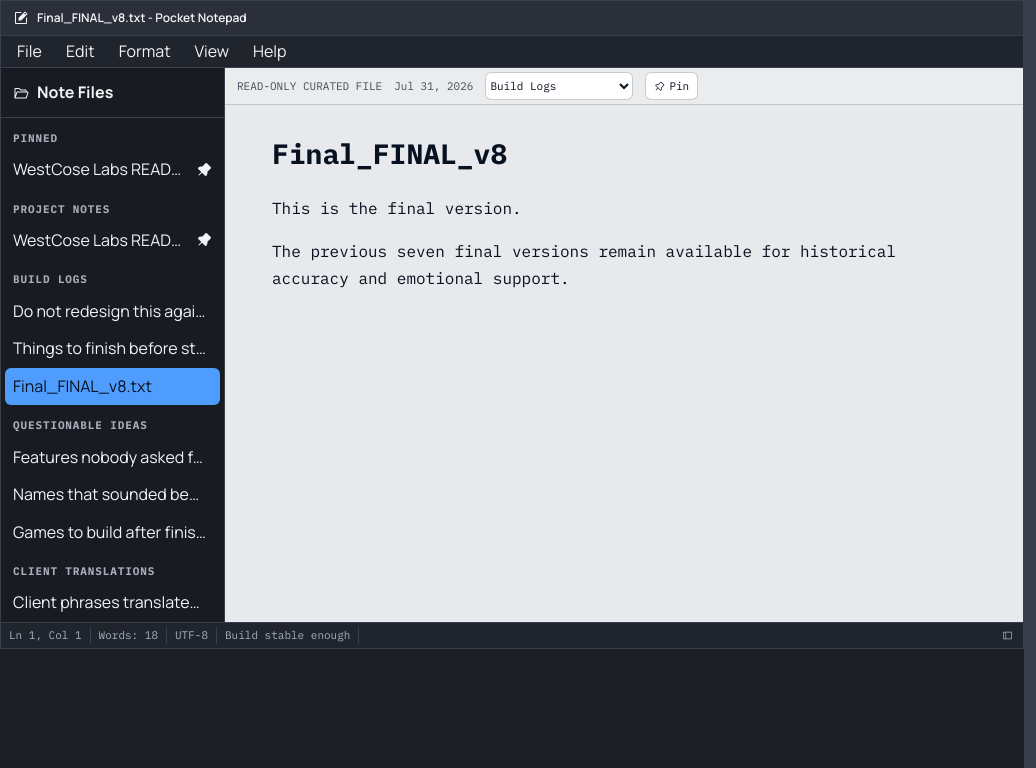
Test case: Notes applications › renders desktop PC menus and refuses to rename Final_FINAL_v8
Expected: the navigation bar named "Pocket Notepad menu" is shown, [1,36,1023,68]
Click the button "Edit".
click(80, 52)  # box [54,36,107,67]
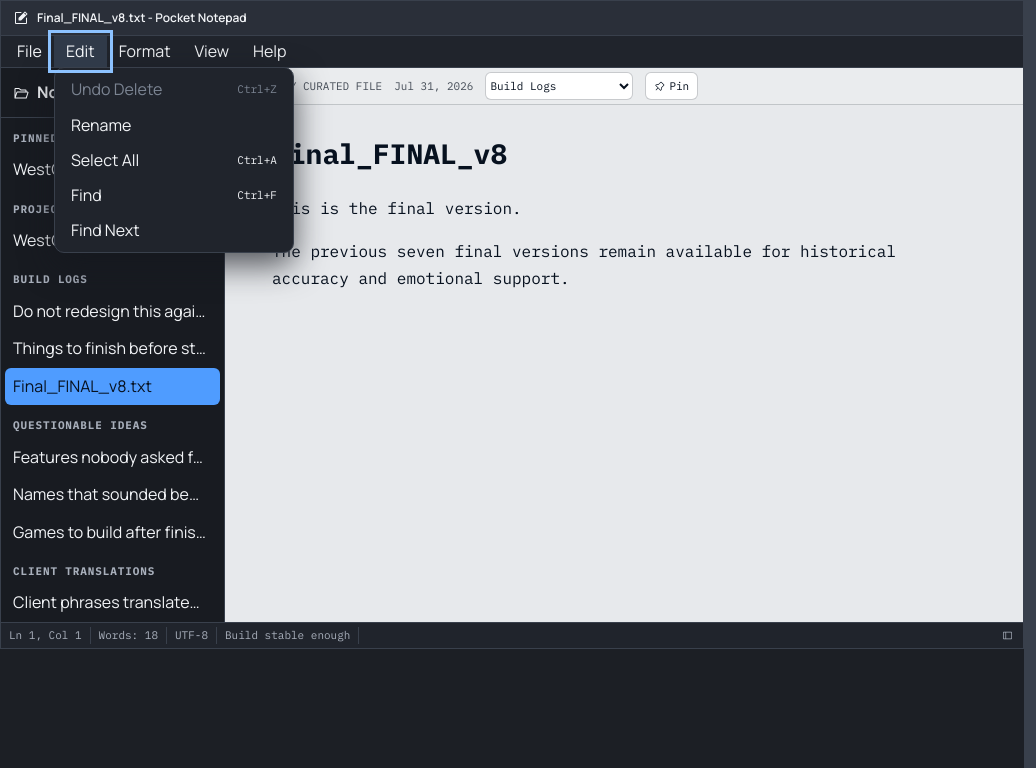
Click the menu item "Rename".
click(174, 125)  # box [59,107,289,143]
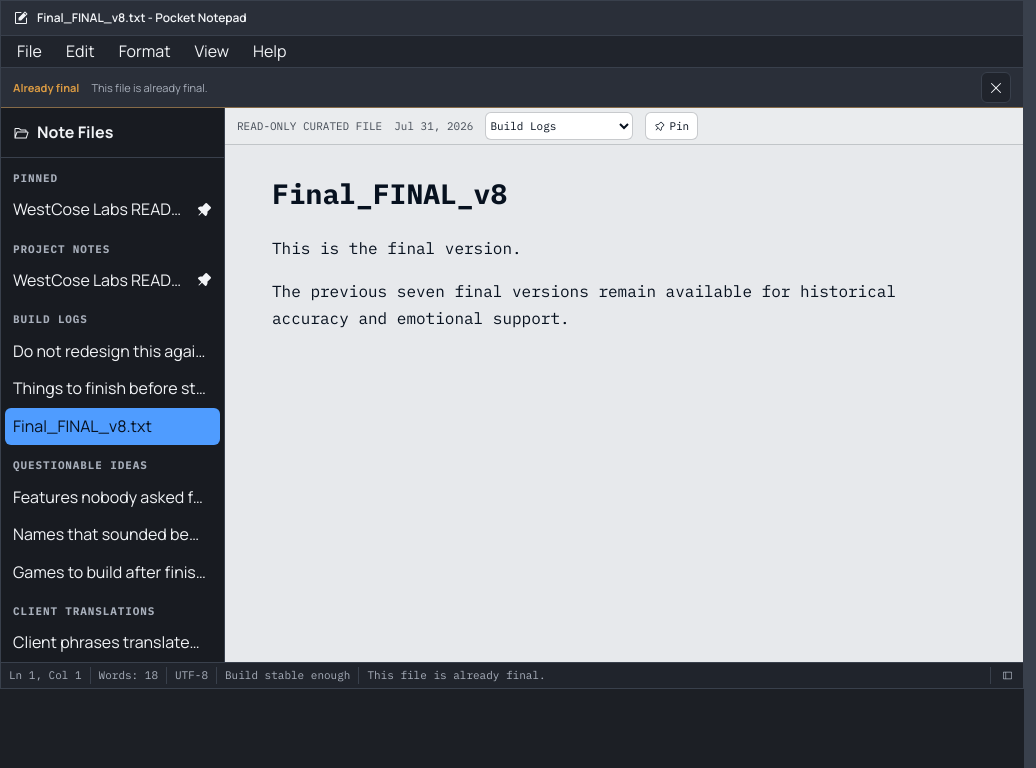
Now the text "This file is already final." is shown, box [92,80,208,95]
